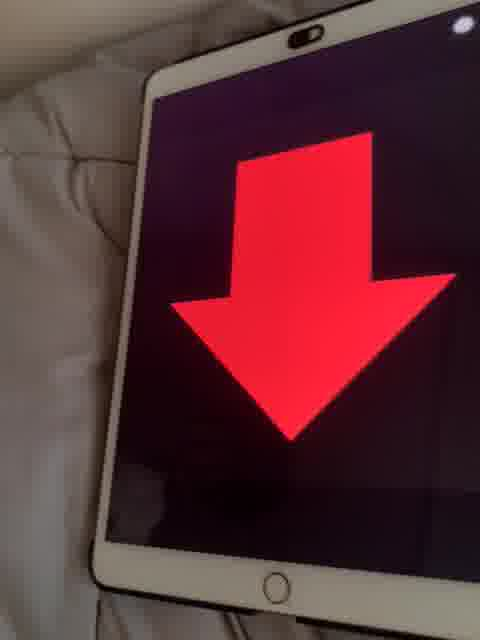down: (162, 125, 456, 449)
